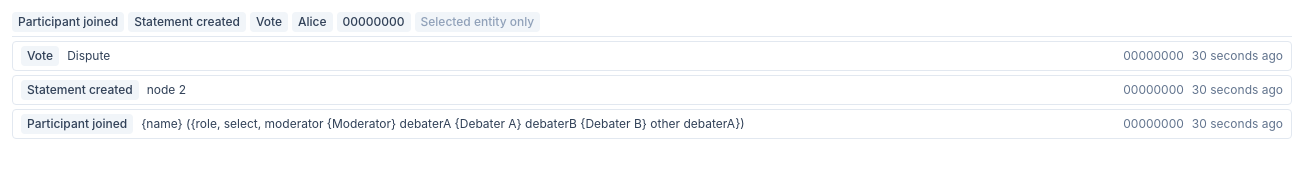
Test: ChangeHistoryPane — filter strip (mod_history_filtering) › the clear button appears only when the filter is non-default and resets the full list
Expected: the list with test id "change-history-pane-list" is shown, [12, 41, 1292, 139]
Click the button with test id "change-history-filter-kind": (269, 22) [250, 12, 288, 32]
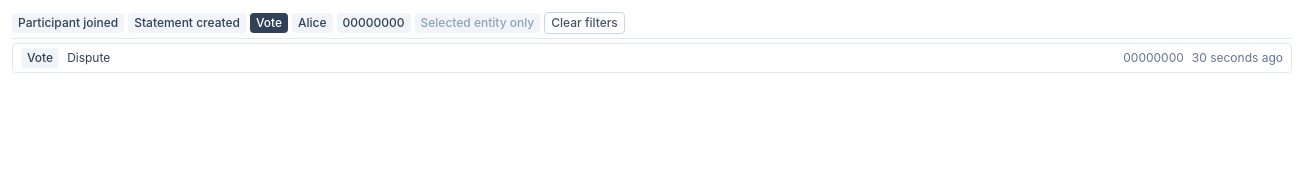
Expected: the number of list items with test id "change-history-row" is 1, [12, 43, 1292, 73]
Click the button with test id "change-history-filter-clear": (584, 23) [544, 12, 625, 34]
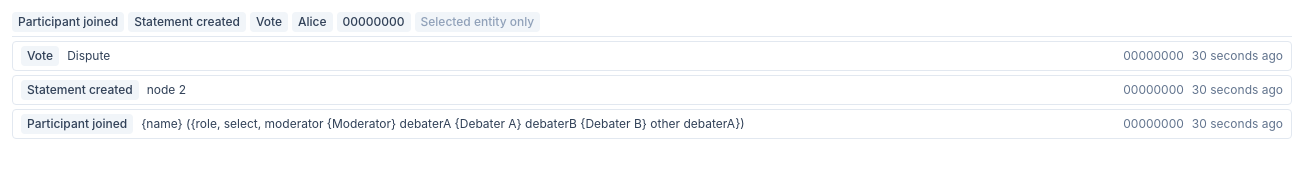
Expected: the number of list items with test id "change-history-row" is 3, [12, 41, 1292, 71]; [12, 75, 1292, 105]; [12, 109, 1292, 139]
Expected: the button with test id "change-history-filter-clear" is gone
